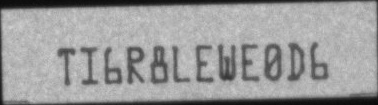0: (262, 42, 283, 81)
6: (309, 41, 330, 80), (104, 47, 122, 85)
8: (150, 44, 169, 84)
D: (286, 39, 305, 81)
E: (196, 43, 215, 82), (241, 42, 259, 82)
I: (79, 45, 97, 87)
L: (171, 45, 193, 81)
R: (126, 45, 144, 84)
T: (56, 47, 77, 86)
W: (217, 42, 237, 80)
